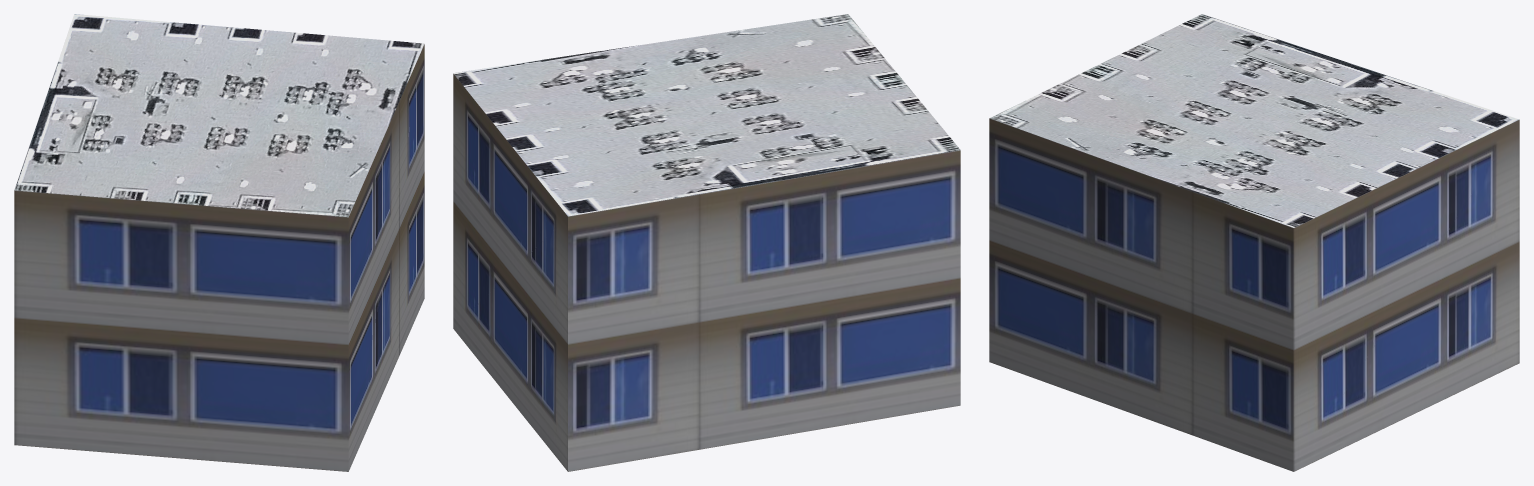
Rendered from ResTex__2337.fbx.
3 views of the same model, side by side, from view 1: azimuth 30°, elevation 25°; view 2: azimuth 150°, elevation 25°; view 3: azimuth 270°, elevation 25° (orthographic). The views are drawn at different scales.
Parts seen in each view (by area): view 1: CityEngineMaterial_23_m, CityEngineMaterial_8_m; view 2: CityEngineMaterial_23_m, CityEngineMaterial_8_m; view 3: CityEngineMaterial_23_m, CityEngineMaterial_8_m.
Part boxes in pixels (box(x1,y1,x2,y2)): CityEngineMaterial_23_m: box(14, 44, 424, 471); CityEngineMaterial_8_m: box(14, 14, 424, 217); CityEngineMaterial_23_m: box(453, 74, 960, 471); CityEngineMaterial_8_m: box(453, 14, 960, 216); CityEngineMaterial_23_m: box(989, 118, 1519, 471); CityEngineMaterial_8_m: box(990, 14, 1518, 227).
Size of the model in its own units: 11.3 by 6 by 11.82.
Materials: 2 (2 with a texture image).
